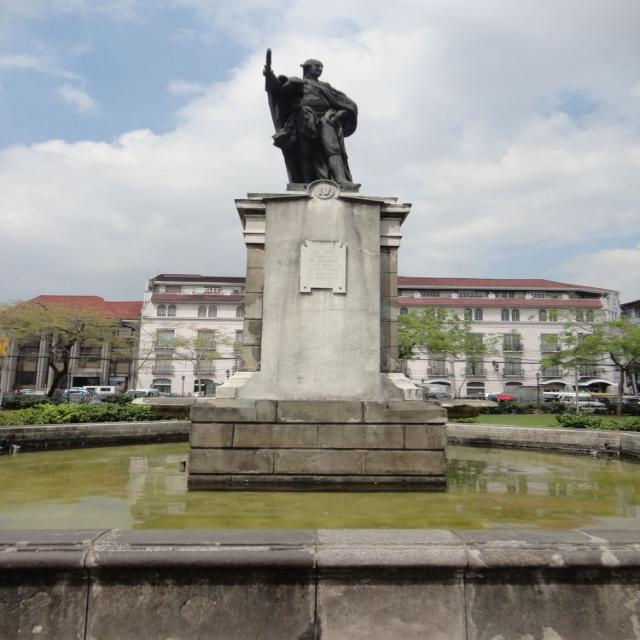King Charles IV Monument: (185, 46, 447, 498)
